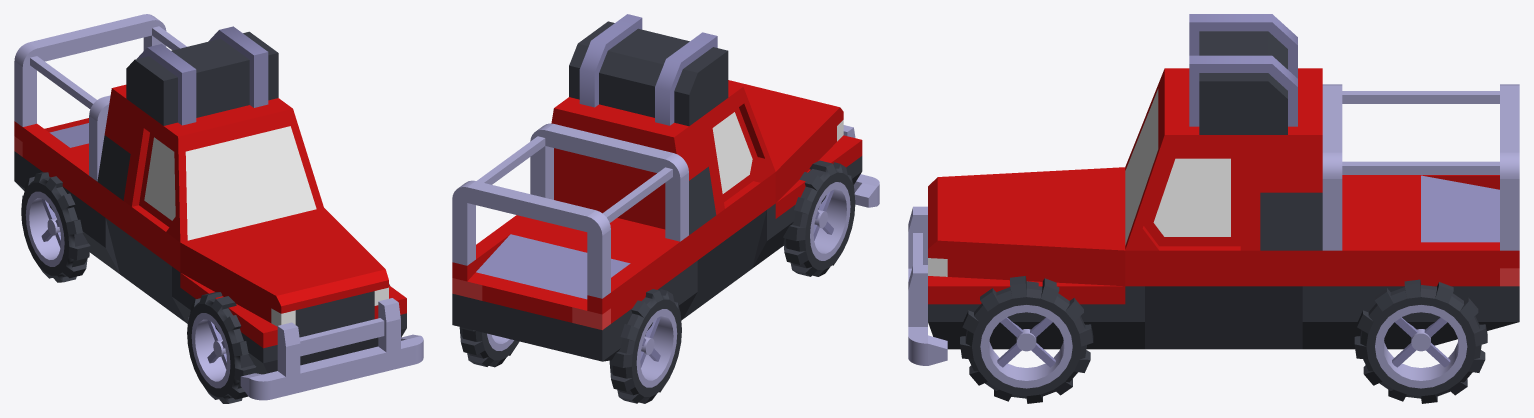
File: red_car.fbx
3 views of the same model, side by side, from view 1: azimuth 30°, elevation 25°; view 2: azimuth 150°, elevation 25°; view 3: azimuth 270°, elevation 25° (orthographic). The views are drawn at different scales.
Parts seen in each view (by area): view 1: mergedBlocks; view 2: mergedBlocks; view 3: mergedBlocks.
Boxes of the visible parts, box(x1,y1,x2,y2) form: mergedBlocks: box(14, 14, 423, 403); mergedBlocks: box(452, 14, 879, 403); mergedBlocks: box(908, 14, 1519, 403).
Bounding box in the file's own units: 12 × 17.88 × 31.
